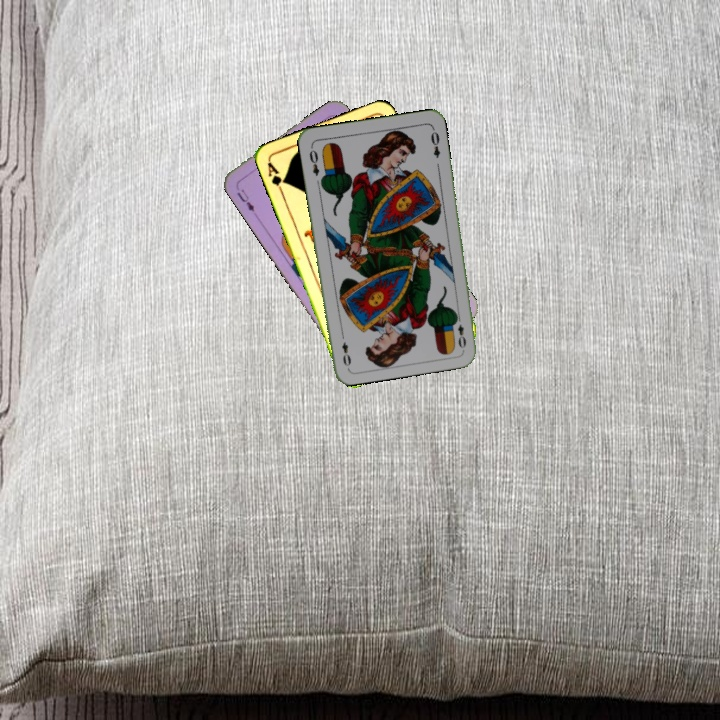EO: (451, 311, 469, 351), (305, 143, 322, 178)
EU: (233, 185, 257, 214)
GA: (263, 158, 288, 197)
